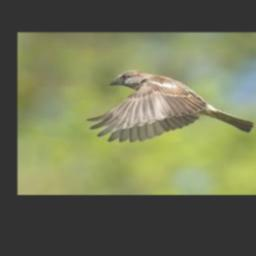Sparrow: (86, 70, 254, 142)
